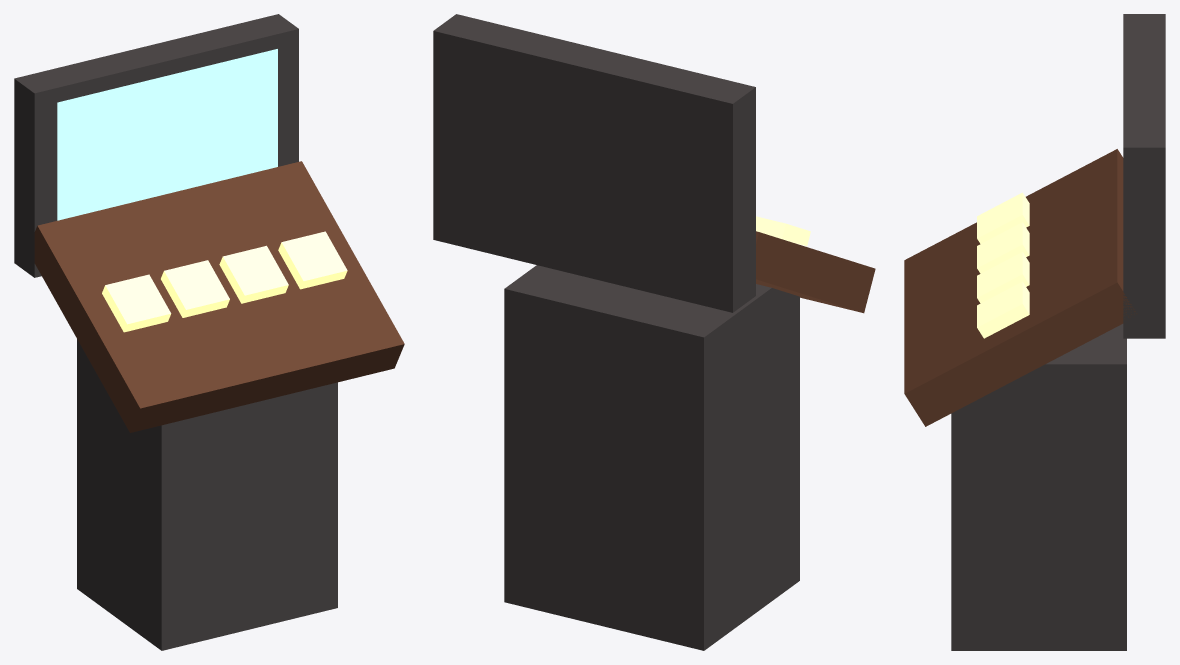
Rendered from console.fbx.
3 views of the same model, side by side, from view 1: azimuth 30°, elevation 25°; view 2: azimuth 150°, elevation 25°; view 3: azimuth 270°, elevation 25° (orthographic). The views are drawn at different scales.
Visible parts, largest first — view 1: console, tile_0, tile_2, tile_3, tile_1; view 2: console, tile_0; view 3: console, tile_3, tile_1, tile_2, tile_0.
Boxes of the visible parts, x1,y1,x2,y2 form: console: (14, 14, 404, 650); tile_0: (102, 274, 171, 332); tile_2: (219, 245, 288, 303); tile_3: (278, 231, 347, 289); tile_1: (161, 260, 229, 317); console: (433, 14, 875, 650); tile_0: (756, 216, 810, 246); console: (904, 14, 1165, 650); tile_3: (977, 281, 1029, 338); tile_1: (977, 222, 1029, 273); tile_2: (977, 252, 1029, 303); tile_0: (977, 192, 1029, 243).
Size of the model in its own units: 0.9 by 1.65 by 0.7431.
